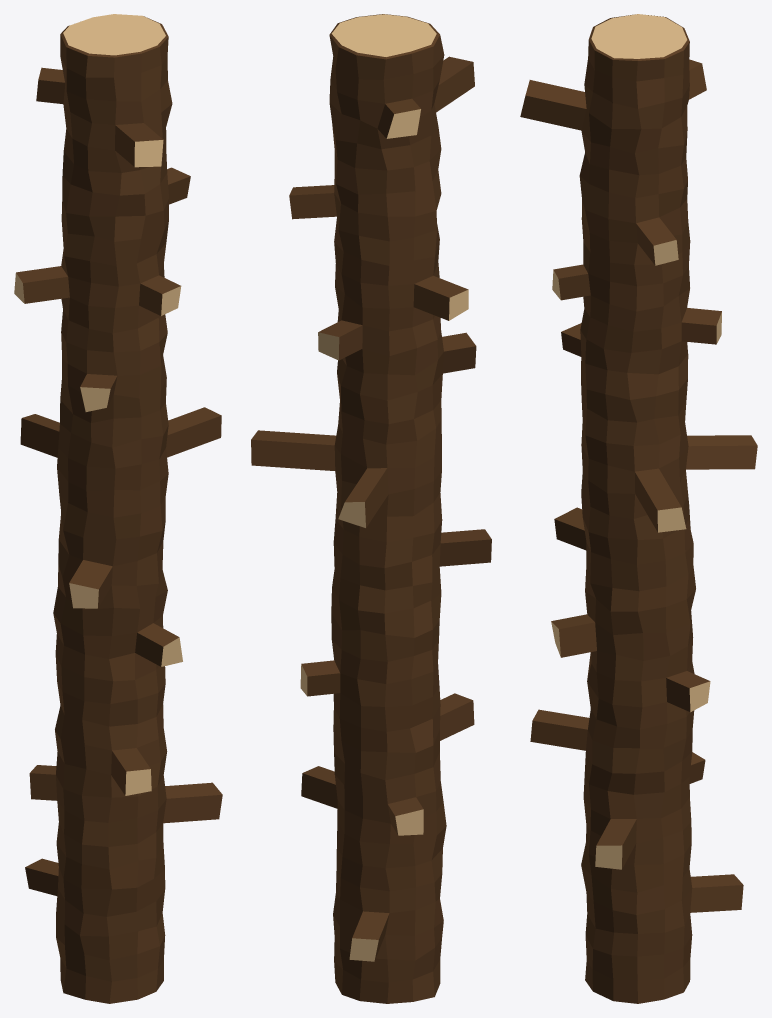
Rendered from treepillar.fbx.
3 renders of one model, left to right at view 1: azimuth 30°, elevation 25°; view 2: azimuth 150°, elevation 25°; view 3: azimuth 270°, elevation 25°, orthographic.
Parts seen in each view (by area): view 1: Cylinder; view 2: Cylinder; view 3: Cylinder.
Boxes of the visible parts, <box> form: Cylinder: <box>14,14,222,1003</box>; Cylinder: <box>251,14,491,1003</box>; Cylinder: <box>520,14,757,1003</box>.
Size of the model in its own units: 450 by 1997 by 453.
